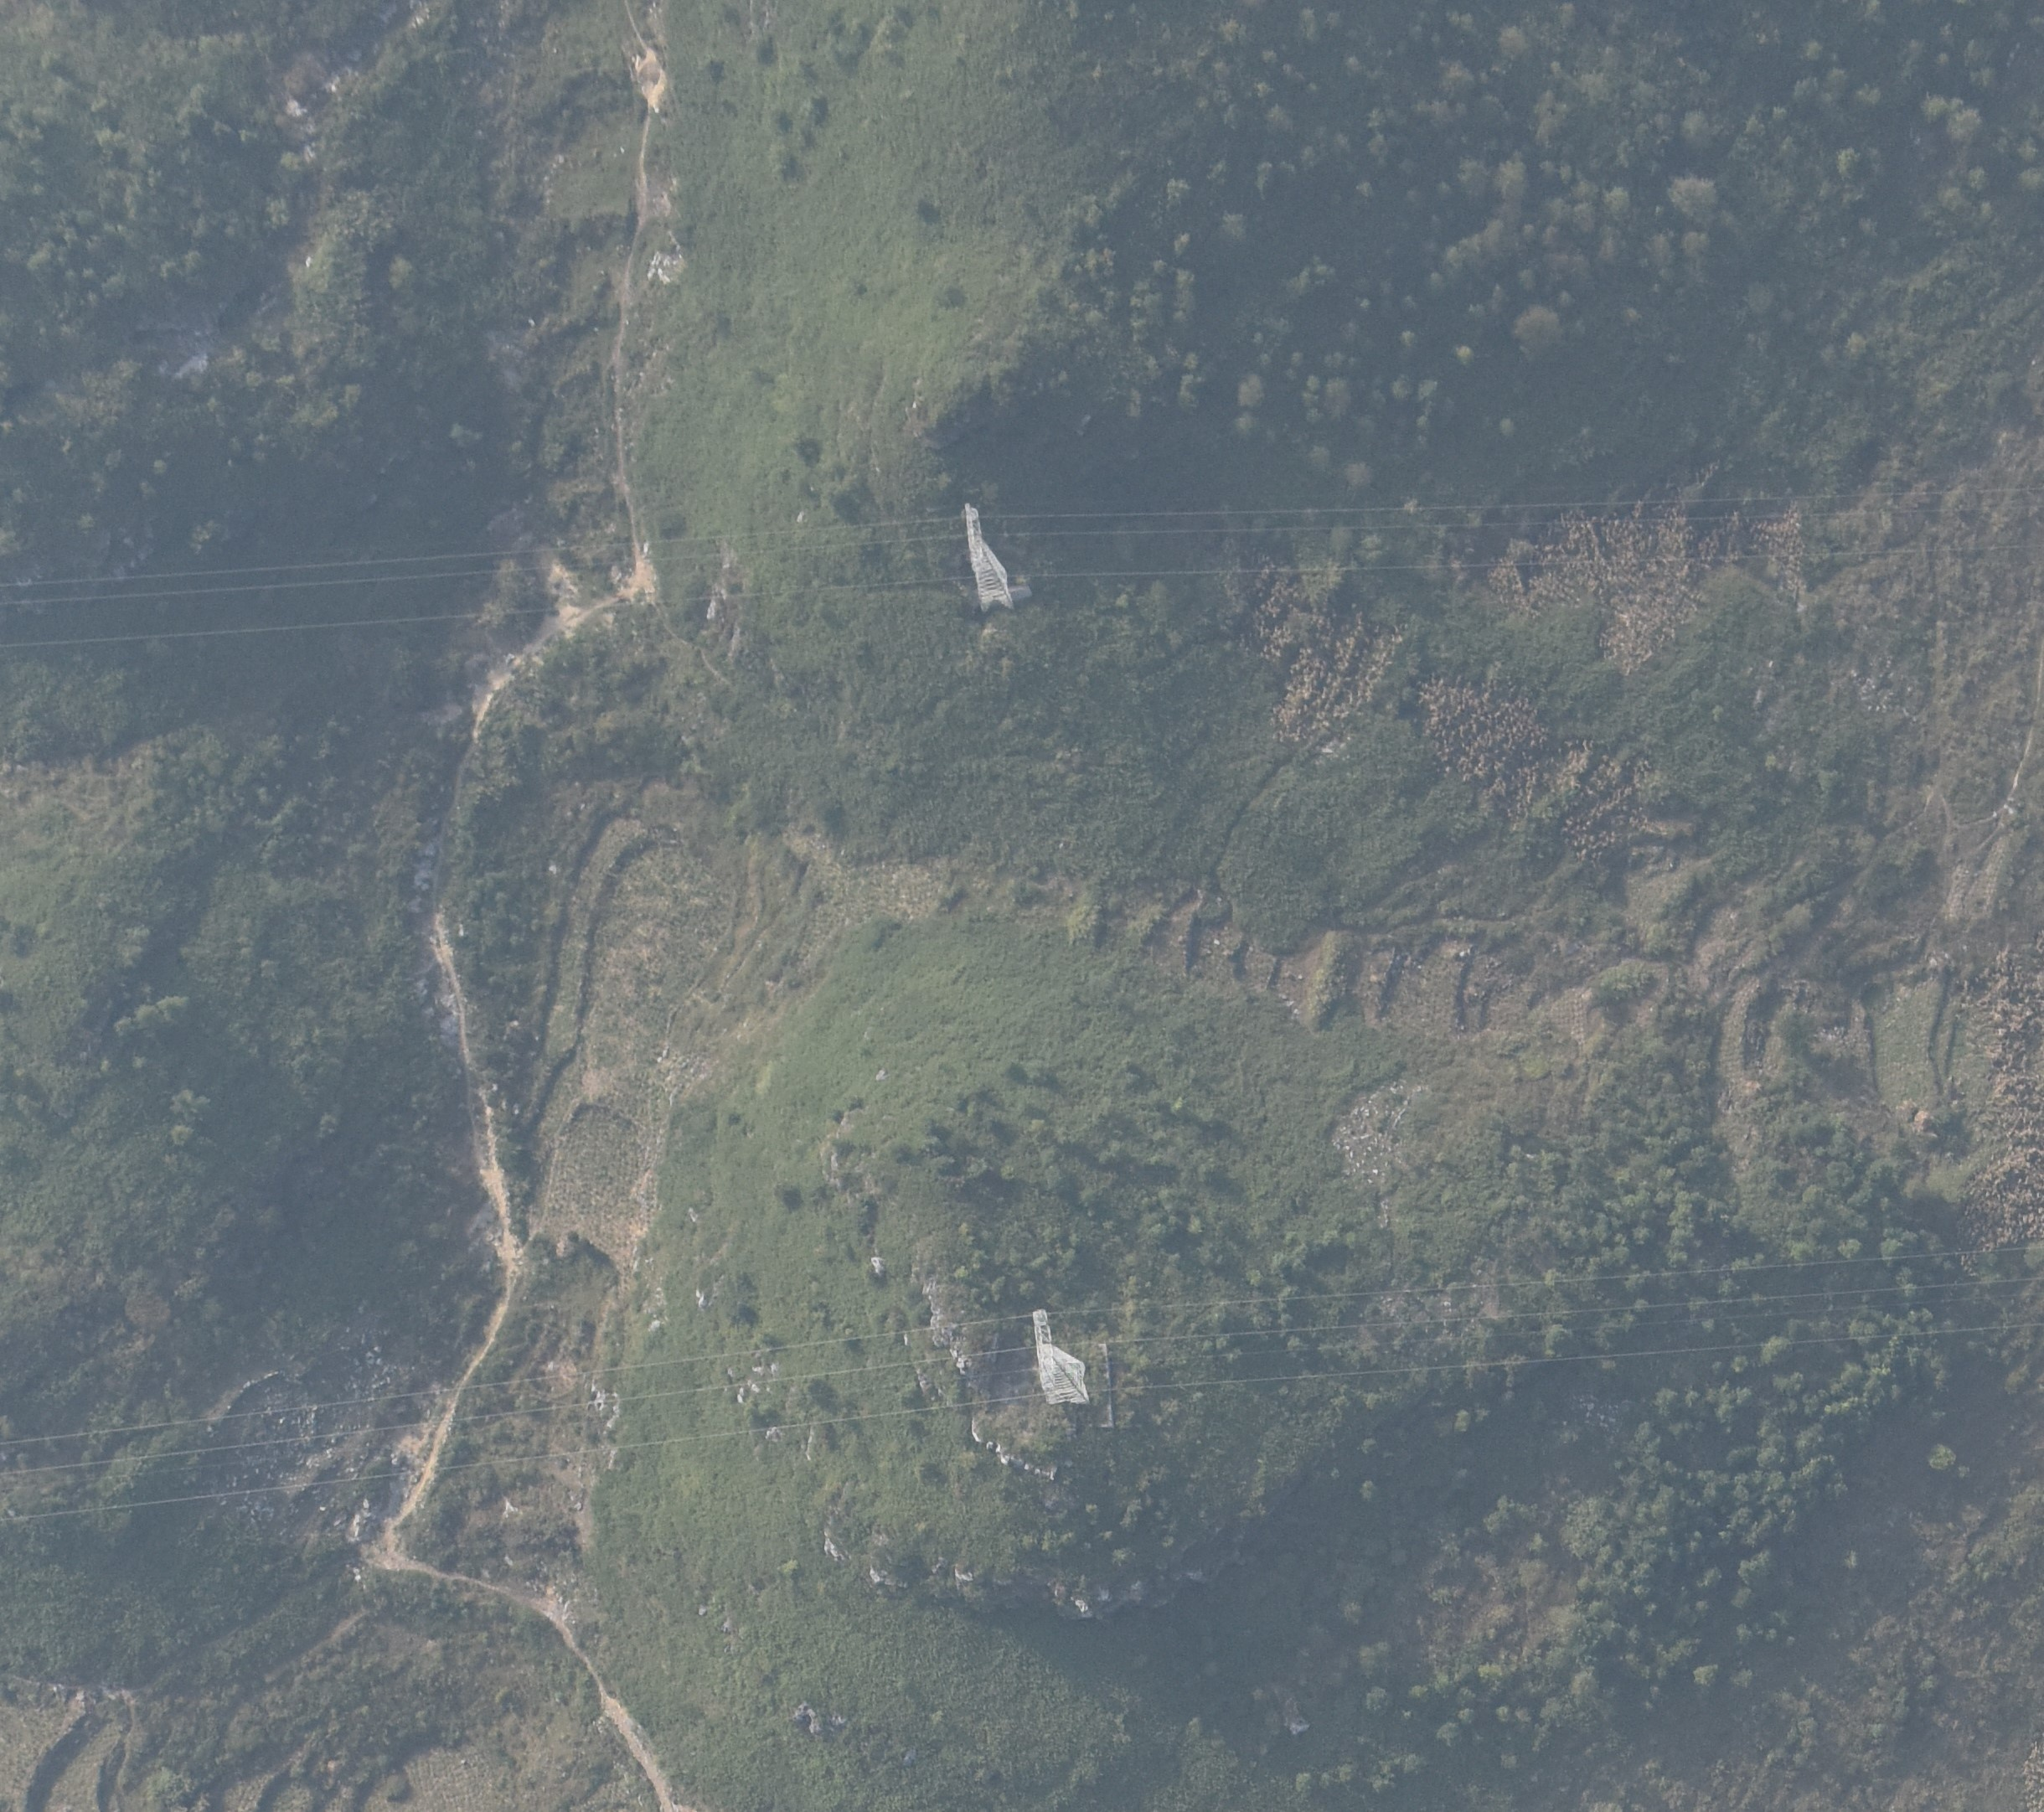cable-tower: (963, 502, 1015, 610), (1033, 1309, 1091, 1405)
